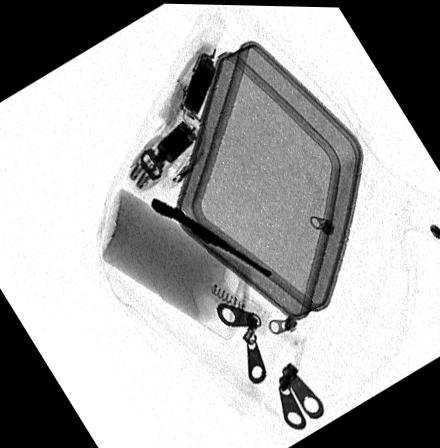Gun: (151, 199, 273, 280)
